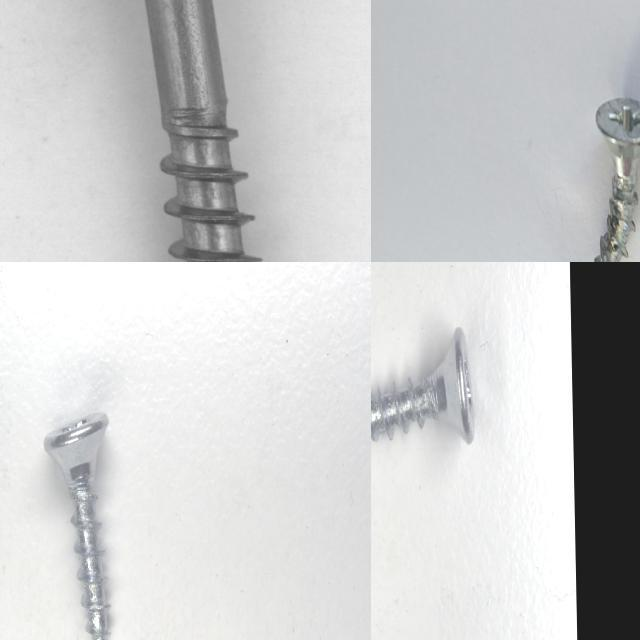Screw: (47, 0, 332, 262), (44, 412, 109, 640), (371, 326, 474, 443), (594, 98, 640, 262)
